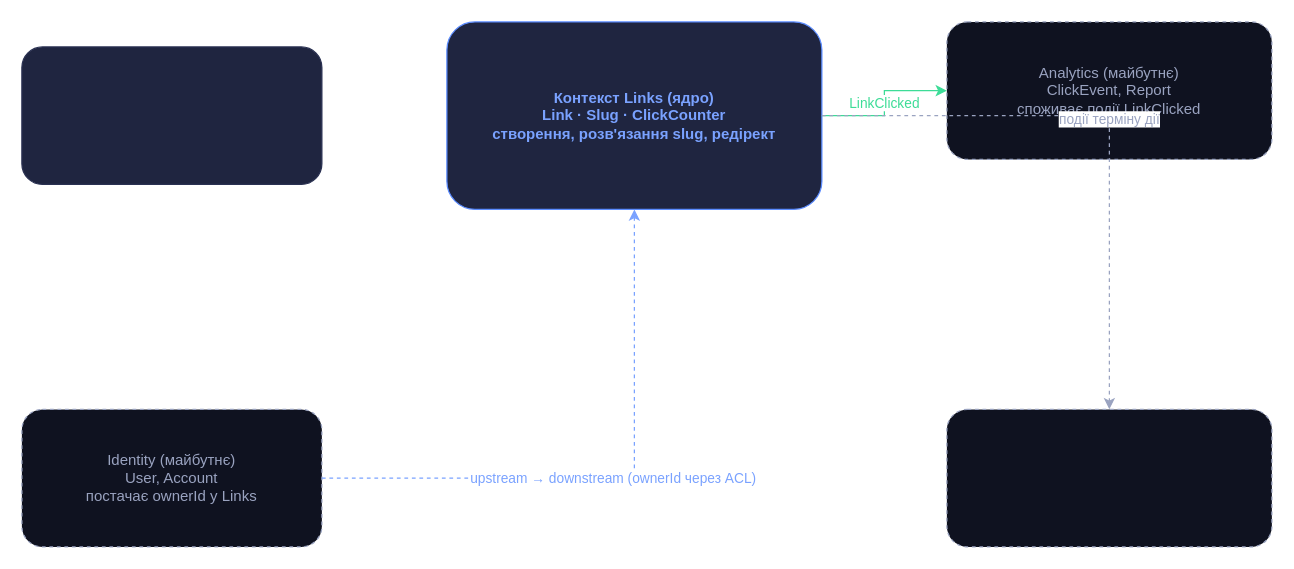
The diagram is 1294 pixels wide and 569 high, and some of its shapes have lost their labels. Here are the shapes that lost their labels. From the top down, the centre of each, then its label:
the point at 171,115: Items (підтримувальний) Item (id, name) без залежності від Links
the point at 1109,477: Notifications (майбутнє) Subscriber, Message надсилає сповіщення про термін дії
